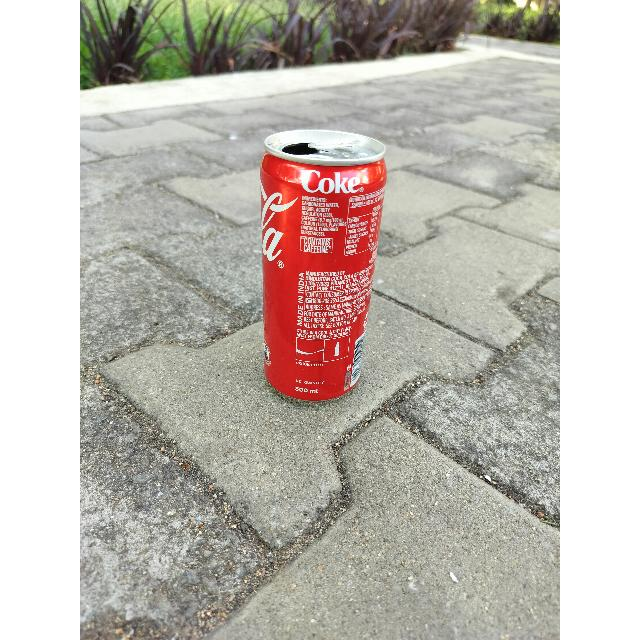Coca Cola: (252, 132, 391, 402)
